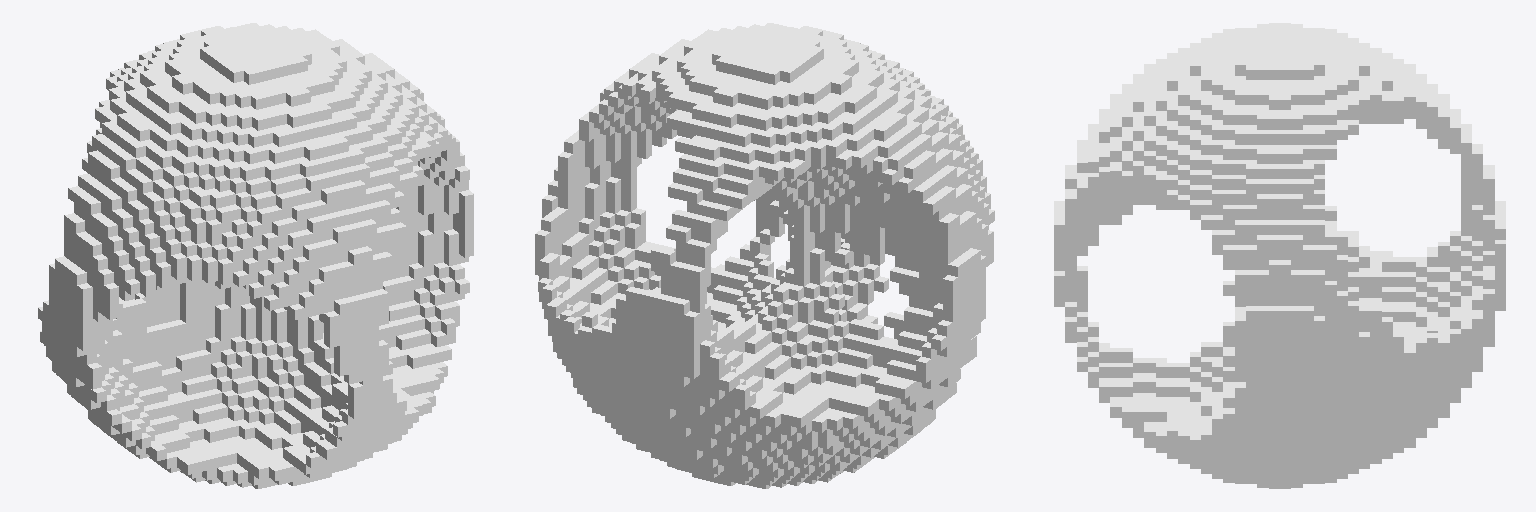
The model's file is _asteroid.obj.
The picture shows the model from 3 angles: view 1: azimuth 30°, elevation 25°; view 2: azimuth 150°, elevation 25°; view 3: azimuth 270°, elevation 25°; orthographic projection.
Parts seen in each view (by area): view 1: object 1; view 2: object 1; view 3: object 1.
Part boxes in pixels (left/top/right/bottom): object 1: left=38, top=23, right=473, bottom=488; object 1: left=535, top=23, right=994, bottom=488; object 1: left=1054, top=23, right=1505, bottom=488.
Bounding box in the file's own units: 4 × 4 × 4.